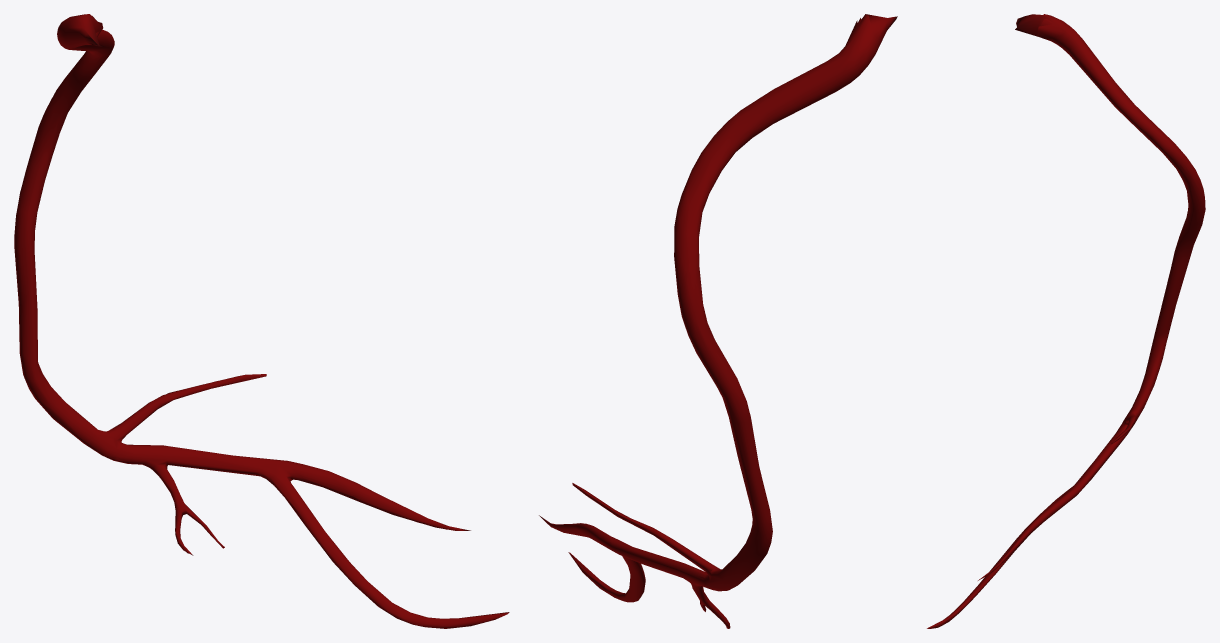
Rendered from VeiaVermelha3.fbx.
The picture shows the model from 3 angles, left to right: view 1: azimuth 30°, elevation 25°; view 2: azimuth 150°, elevation 25°; view 3: azimuth 270°, elevation 25°; orthographic projection. The views are drawn at different scales.
Visible parts, largest first — view 1: arteries_4; view 2: arteries_4; view 3: arteries_4.
Part boxes in pixels (x1=…): arteries_4: x1=14, y1=14, x2=509, y2=628; arteries_4: x1=539, y1=14, x2=897, y2=628; arteries_4: x1=927, y1=14, x2=1205, y2=628.
Bounding box in the file's own units: 0.3234 × 0.5466 × 0.2797.
